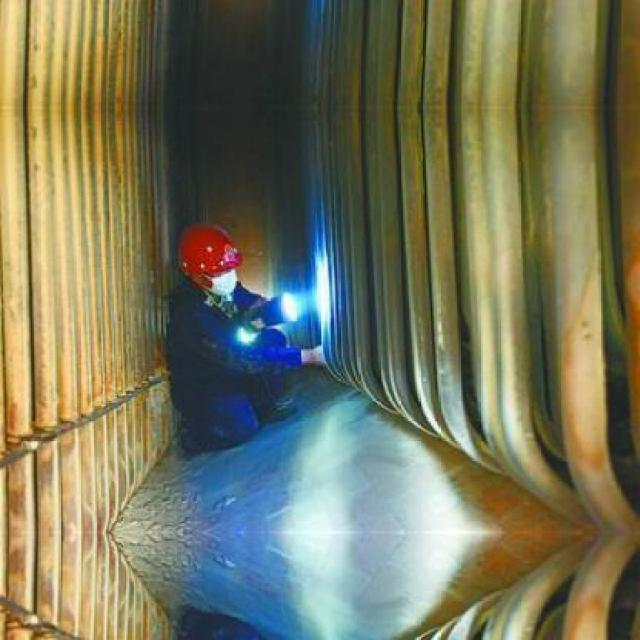helmet: (174, 218, 241, 293)
